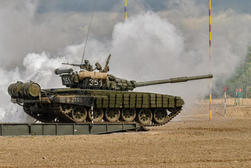t72: (7, 65, 216, 122)
